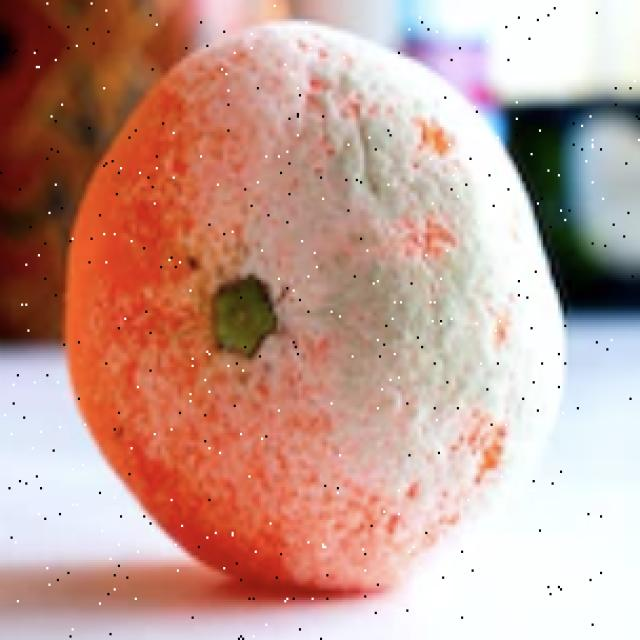sangat_busuk: (63, 20, 570, 599)
